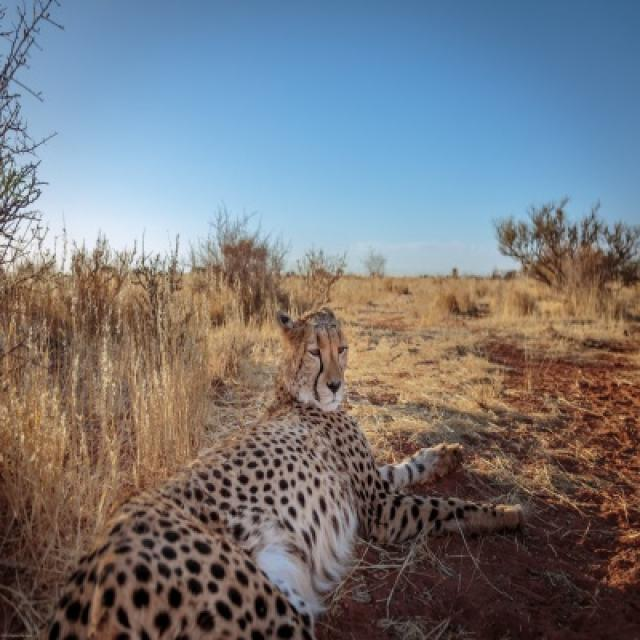Cheetah: (42, 309, 520, 638)
